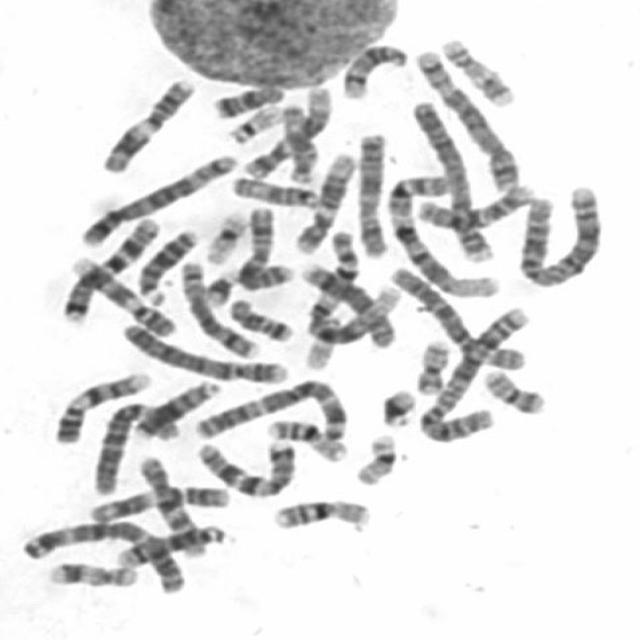A1: (378, 167, 504, 299), (303, 228, 407, 346)
A2: (410, 297, 536, 445), (511, 176, 609, 289)
A3: (13, 512, 190, 596), (185, 372, 353, 442)
B4: (406, 91, 496, 266), (114, 315, 291, 386)
B5: (408, 39, 524, 192), (72, 145, 242, 249)
C10: (131, 449, 212, 560), (412, 176, 539, 232)
C11: (94, 70, 198, 175), (82, 477, 233, 523)
C12: (236, 79, 336, 180), (287, 144, 360, 254)
C6: (382, 260, 533, 372), (83, 393, 181, 497)
C7: (54, 210, 164, 324), (189, 432, 299, 498)
C8: (292, 254, 400, 349), (174, 254, 263, 359)
C9: (63, 250, 181, 338), (47, 364, 157, 446)
D13: (126, 373, 224, 441), (130, 220, 203, 305)
D14: (108, 518, 230, 569), (334, 35, 412, 100)
D15: (222, 168, 324, 209), (274, 96, 319, 186)
E16: (259, 411, 350, 464), (264, 490, 374, 532)
E17: (434, 29, 520, 108), (40, 554, 142, 590)
E18: (220, 290, 297, 343), (205, 76, 287, 120)
F19: (197, 202, 252, 266), (348, 426, 401, 487)
F20: (476, 361, 550, 416), (409, 332, 454, 396)
G21: (373, 380, 420, 429), (196, 262, 241, 308)
G22: (220, 97, 284, 145), (298, 309, 346, 370)
X: (234, 198, 296, 291), (349, 125, 392, 259)
